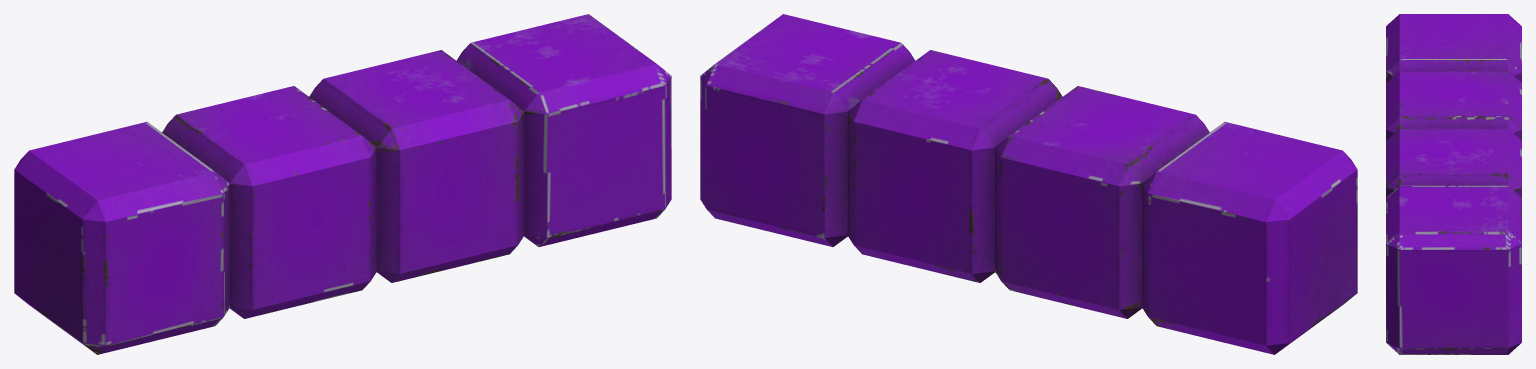
Rendered from blocks_3.fbx.
3 renders of one model, left to right at view 1: azimuth 30°, elevation 25°; view 2: azimuth 150°, elevation 25°; view 3: azimuth 270°, elevation 25°, orthographic. The views are drawn at different scales.
Visible parts, largest first — view 1: polySurface26; view 2: polySurface26; view 3: polySurface26.
Boxes of the visible parts, <box> form: polySurface26: <box>14,14,671,354</box>; polySurface26: <box>700,14,1357,354</box>; polySurface26: <box>1386,14,1521,354</box>.
Bounding box in the file's own units: 3.99 × 1 × 1.
